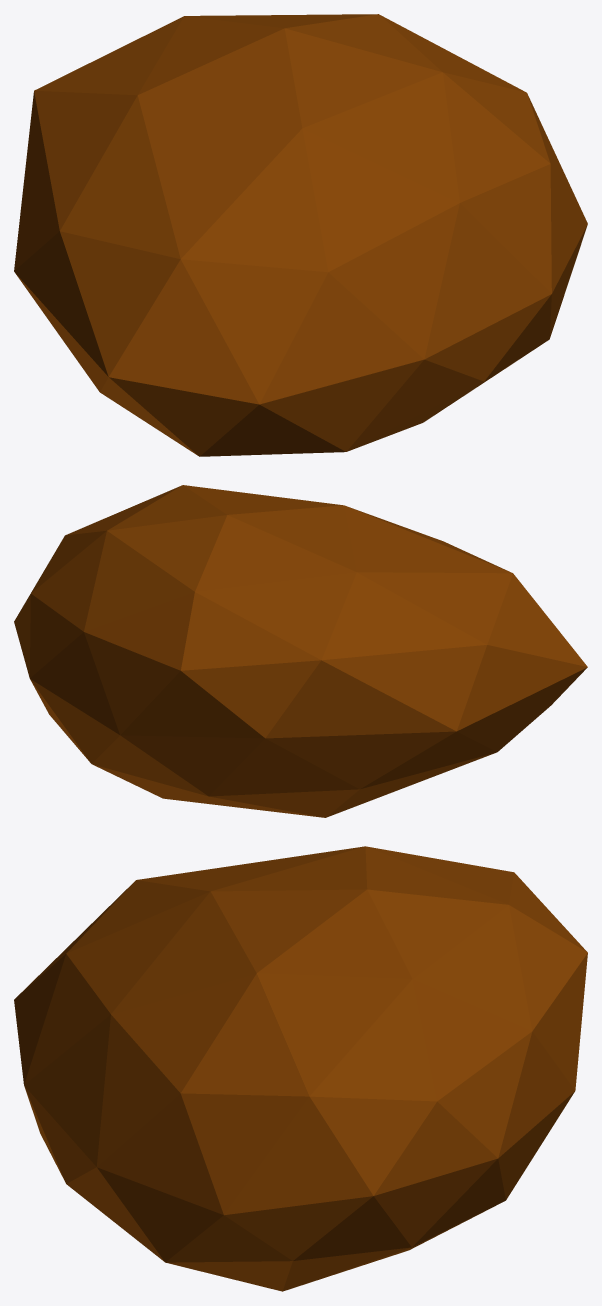
The model's file is Rock5.obj.
3 views of the same model, one above another, from view 1: azimuth 30°, elevation 25°; view 2: azimuth 150°, elevation 25°; view 3: azimuth 270°, elevation 25° (orthographic). The views are drawn at different scales.
Visible parts, largest first — view 1: Icosphere.009; view 2: Icosphere.009; view 3: Icosphere.009.
Boxes of the visible parts, x1,y1,x2,y2 form: Icosphere.009: (14,14,587,456); Icosphere.009: (14,485,587,817); Icosphere.009: (14,846,587,1291).
Size of the model in its own units: 2.8 by 1.76 by 2.51.
Materials: 1 (1 with a texture image).
